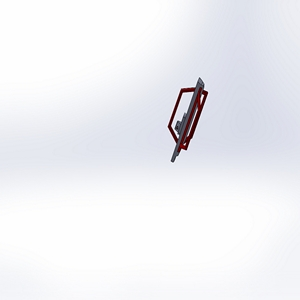submarine: (161, 73, 212, 172)
